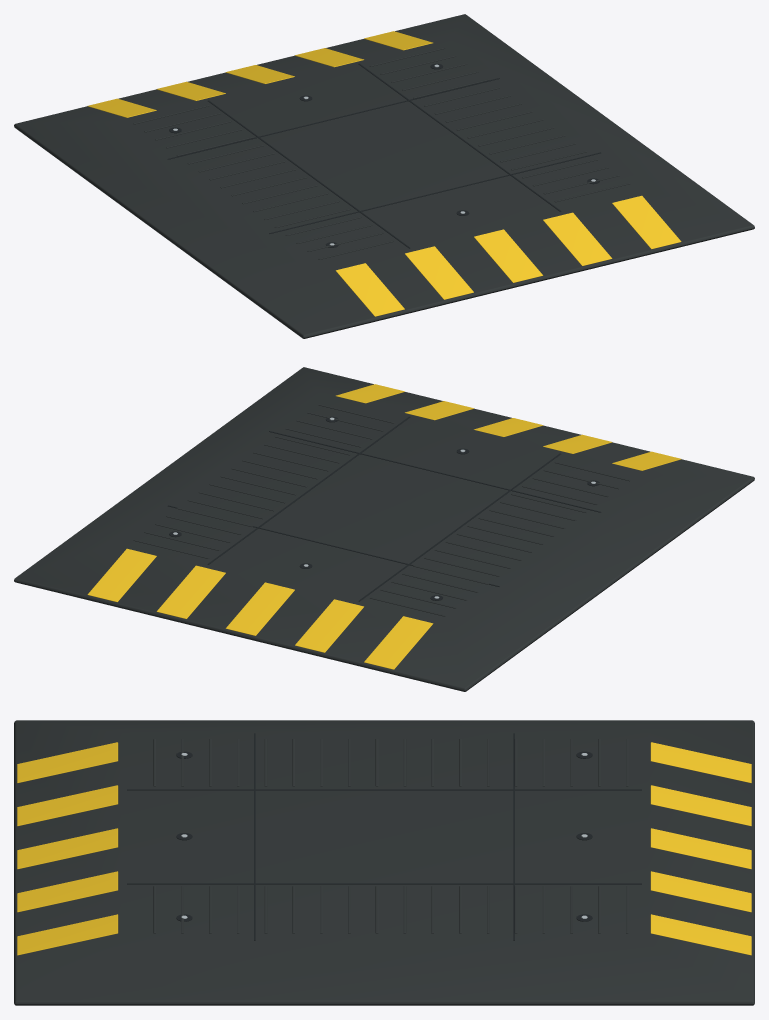
The model's file is city-speed-cushion.glb.
3 renders of one model, top to bottom at view 1: azimuth 30°, elevation 25°; view 2: azimuth 150°, elevation 25°; view 3: azimuth 270°, elevation 25°, orthographic. The views are drawn at different scales.
Parts seen in each view (by area): view 1: Beveled traffic calming pad, High visibility approach stripe.003, High visibility approach stripe.004, High visibility approach stripe, High visibility approach stripe.001, High visibility approach stripe.002, High visibility approach stripe.007, High visibility approach stripe.005, High visibility approach stripe.008, High visibility approach stripe.006, High visibility approach stripe.009, Transverse module seam (+1 smaller); view 2: Beveled traffic calming pad, High visibility approach stripe.008, High visibility approach stripe.009, High visibility approach stripe.005, High visibility approach stripe.006, High visibility approach stripe.007, High visibility approach stripe.002, High visibility approach stripe, High visibility approach stripe.003, High visibility approach stripe.001, High visibility approach stripe.004, Transverse module seam; view 3: Beveled traffic calming pad, High visibility approach stripe.004, High visibility approach stripe.009, High visibility approach stripe.001, High visibility approach stripe.002, High visibility approach stripe.003, High visibility approach stripe.006, High visibility approach stripe.007, High visibility approach stripe.008, High visibility approach stripe, High visibility approach stripe.005, Longitudinal module seam (+1 smaller).
Part boxes in pixels (x1=…): Beveled traffic calming pad: x1=14, y1=14, x2=754, y2=338; High visibility approach stripe.003: x1=543, y1=212, x2=612, y2=265; High visibility approach stripe.004: x1=612, y1=195, x2=681, y2=249; High visibility approach stripe: x1=335, y1=263, x2=404, y2=316; High visibility approach stripe.001: x1=405, y1=246, x2=473, y2=299; High visibility approach stripe.002: x1=474, y1=229, x2=543, y2=282; High visibility approach stripe.007: x1=225, y1=65, x2=294, y2=83; High visibility approach stripe.005: x1=87, y1=98, x2=156, y2=117; High visibility approach stripe.008: x1=295, y1=48, x2=363, y2=67; High visibility approach stripe.006: x1=156, y1=81, x2=225, y2=100; High visibility approach stripe.009: x1=364, y1=31, x2=432, y2=50; Transverse module seam: x1=269, y1=152, x2=600, y2=233; Beveled traffic calming pad: x1=14, y1=367, x2=754, y2=691; High visibility approach stripe.008: x1=156, y1=565, x2=225, y2=618; High visibility approach stripe.009: x1=87, y1=548, x2=156, y2=602; High visibility approach stripe.005: x1=364, y1=616, x2=433, y2=669; High visibility approach stripe.006: x1=295, y1=599, x2=363, y2=652; High visibility approach stripe.007: x1=225, y1=582, x2=294, y2=635; High visibility approach stripe.002: x1=474, y1=418, x2=543, y2=436; High visibility approach stripe: x1=612, y1=451, x2=681, y2=470; High visibility approach stripe.003: x1=405, y1=401, x2=473, y2=420; High visibility approach stripe.001: x1=543, y1=434, x2=612, y2=453; High visibility approach stripe.004: x1=336, y1=384, x2=404, y2=403; Transverse module seam: x1=269, y1=431, x2=601, y2=512; Beveled traffic calming pad: x1=14, y1=720, x2=754, y2=1005; High visibility approach stripe.004: x1=17, y1=914, x2=118, y2=955; High visibility approach stripe.009: x1=650, y1=914, x2=751, y2=955; High visibility approach stripe.001: x1=17, y1=785, x2=118, y2=826; High visibility approach stripe.002: x1=17, y1=828, x2=118, y2=869; High visibility approach stripe.003: x1=17, y1=871, x2=118, y2=912; High visibility approach stripe.006: x1=650, y1=785, x2=751, y2=826; High visibility approach stripe.007: x1=650, y1=828, x2=751, y2=869; High visibility approach stripe.008: x1=650, y1=871, x2=751, y2=912; High visibility approach stripe: x1=17, y1=742, x2=118, y2=783; High visibility approach stripe.005: x1=650, y1=742, x2=751, y2=783; Longitudinal module seam: x1=127, y1=789, x2=641, y2=790.
Bounding box in the file's own units: 1.8 × 0.0905 × 2.
